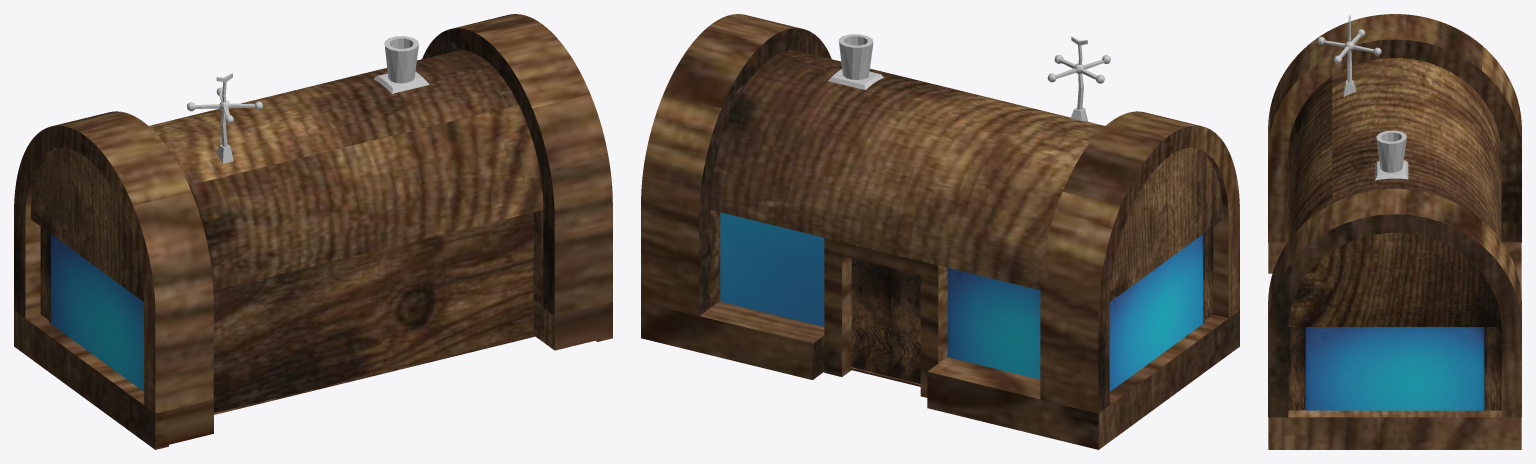
Rendered from crustaceo.obj.
The picture shows the model from 3 angles, left to right: view 1: azimuth 30°, elevation 25°; view 2: azimuth 150°, elevation 25°; view 3: azimuth 270°, elevation 25°; orthographic projection. The views are drawn at different scales.
Parts seen in each view (by area): view 1: Cuerpo_Material.005, Ventanas_Material.006, TEcho_Material.002; view 2: Cuerpo_Material.005, Ventanas_Material.006, TEcho_Material.002; view 3: Cuerpo_Material.005, Ventanas_Material.006, TEcho_Material.002.
Part boxes in pixels (x1,y1,x2,y2): Cuerpo_Material.005: [14, 14, 612, 449]; Ventanas_Material.006: [50, 234, 143, 391]; TEcho_Material.002: [187, 36, 429, 163]; Cuerpo_Material.005: [641, 14, 1239, 449]; Ventanas_Material.006: [720, 212, 1203, 391]; TEcho_Material.002: [828, 34, 1110, 121]; Cuerpo_Material.005: [1268, 14, 1521, 449]; Ventanas_Material.006: [1305, 327, 1484, 410]; TEcho_Material.002: [1317, 15, 1408, 180].
Bounding box in the file's own units: 7.67 × 5.03 × 4.11.
